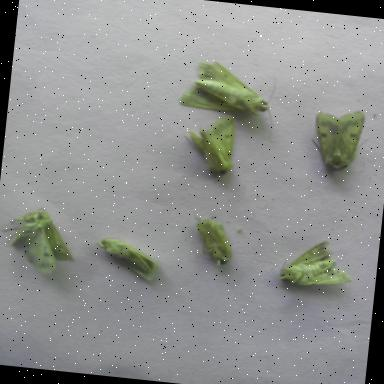abw: (168, 54, 291, 138), (0, 201, 86, 283), (264, 230, 363, 298), (303, 102, 381, 183), (172, 106, 249, 182), (87, 231, 167, 286), (182, 208, 242, 272)
